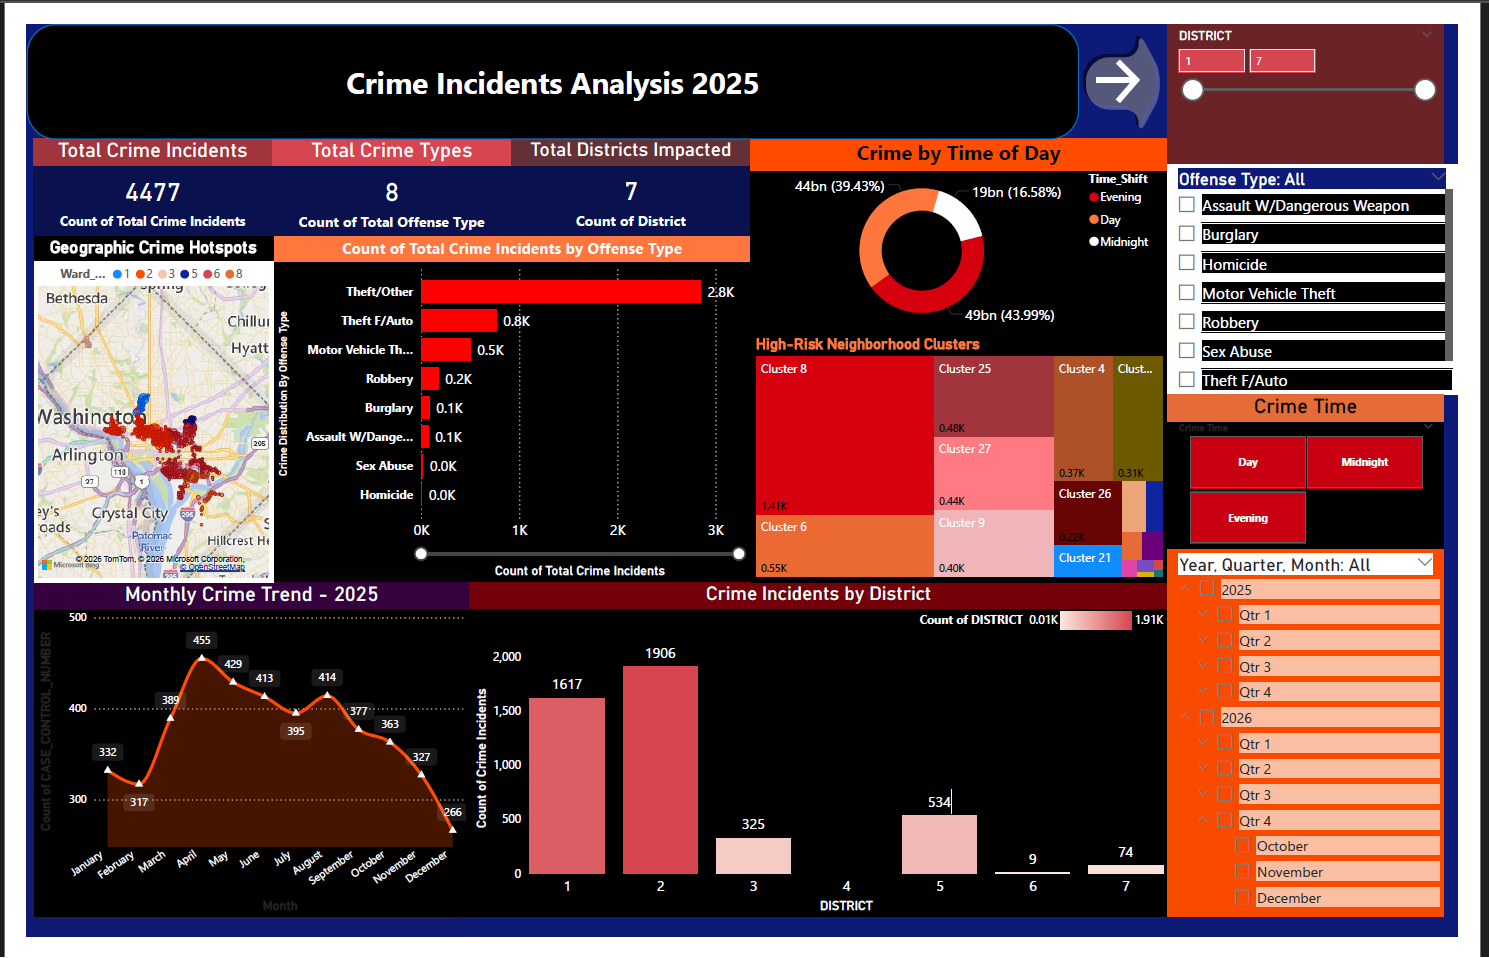

Layout of this report page (visuals, bound fields, positions):
{"tool":"powerbi","page":{"name":"Crime_Incidents2025_Dashboard","canvas":[1616,1030],"ordinal":0},"visuals":[{"type":"card","title":"Total Crime Incidents","fields":{"Values":["CountNonNull(Crime_Incidents_in_20251.CASE_CONTROL_NUMBER)"]},"box":[6.8,129.1,270,112],"z":0},{"type":"card","title":"Total Crime Types","fields":{"Values":["Count(Crime_Incidents_in_20251.OFFENSE_TYPE)"]},"box":[276.8,129.1,270,112],"z":1000},{"type":"card","title":"Total Districts Impacted","fields":{"Values":["Count(Crime_Incidents_in_20251.DISTRICT)"]},"box":[546.8,129.1,270,112],"z":2000},{"type":"clusteredBarChart","fields":{"Category":["Crime_Incidents_in_20251.OFFENSE_TYPE"],"Y":["CountNonNull(Crime_Incidents_in_20251.CASE_CONTROL_NUMBER)"]},"box":[277.5,240,540,390],"z":3000},{"type":"lineChart","title":"Monthly Crime Trend - 2025","fields":{"Category":["Crime_Incidents_in_20251.REPORT_DATE.Variation.Date Hierarchy.Month"],"Y":["CountNonNull(Crime_Incidents_in_20251.CASE_CONTROL_NUMBER)"]},"box":[7.5,630,492.5,377.5],"z":4000},{"type":"donutChart","title":"Crime by Time of Day","fields":{"Category":["Crime_Incidents_in_20251.TIME_SHIFT"],"Y":["Sum(Crime_Incidents_in_20251.CASE_CONTROL_NUMBER)"]},"box":[816.8,129.1,470,222],"z":5000},{"type":"clusteredColumnChart","title":"Crime Incidents by District","fields":{"Category":["Crime_Incidents_in_20251.DISTRICT"],"Y":["CountNonNull(Crime_Incidents_in_20251.CASE_CONTROL_NUMBER)"]},"box":[500,630,787.5,377.5],"z":6000},{"type":"map","title":"Geographic Crime Hotspots","fields":{"Y":["Crime_Incidents_in_20251.LATITUDE"],"X":["Crime_Incidents_in_20251.LONGITUDE"],"Size":["Sum(Crime_Incidents_in_20251.CASE_CONTROL_NUMBER)"],"Series":["Crime_Incidents_in_20251.WARD_NUMBER"]},"box":[7.5,240,270,390],"z":7000},{"type":"treemap","title":"High-Risk Neighborhood Clusters","fields":{"Group":["Crime_Incidents_in_20251.NEIGHBORHOOD_CLUSTER"],"Values":["CountNonNull(Crime_Incidents_in_20251.CASE_CONTROL_NUMBER)"]},"box":[817.5,350,470,280],"z":8000},{"type":"shape","box":[0,0,1188.2,130.2],"z":9000},{"type":"slicer","fields":{"Values":["Crime_Incidents_in_20251.DISTRICT"]},"box":[1287.5,0,312.5,157.5],"z":10000},{"type":"slicer","fields":{"Values":["Crime_Incidents_in_20251.OFFENSE_TYPE"]},"box":[1287.5,157.5,327.5,260],"z":11000},{"type":"slicer","title":"Crime Time","fields":{"Values":["Crime_Incidents_in_20251.TIME_SHIFT"]},"box":[1287.5,417.5,312.5,175],"z":12000},{"type":"slicer","fields":{"Values":["Crime_Incidents_in_20251.REPORT_DATE.Variation.Date Hierarchy.Year","Crime_Incidents_in_20251.REPORT_DATE.Variation.Date Hierarchy.Quarter","Crime_Incidents_in_20251.REPORT_DATE.Variation.Date Hierarchy.Month"]},"box":[1287.5,592.5,312.5,415],"z":13000},{"type":"actionButton","box":[1188.2,0,100.8,128.1],"z":14000}]}

Visuals, with their boxes in screenshot pixels (x1, y1, x2, y2), scaled from the page's 1616x1030 canvas onto the 1489x958 screenshot:
"Total Crime Incidents" card: BBox(6, 120, 255, 224)
"Total Crime Types" card: BBox(255, 120, 504, 224)
"Total Districts Impacted" card: BBox(504, 120, 753, 224)
clusteredBarChart - Crime_Incidents_in_20251.OFFENSE_TYPE x CountNonNull(Crime_Incidents_in_20251.CASE_CONTROL_NUMBER): BBox(256, 223, 753, 586)
"Monthly Crime Trend - 2025" lineChart: BBox(7, 586, 461, 937)
"Crime by Time of Day" donutChart: BBox(753, 120, 1186, 327)
"Crime Incidents by District" clusteredColumnChart: BBox(461, 586, 1186, 937)
"Geographic Crime Hotspots" map: BBox(7, 223, 256, 586)
"High-Risk Neighborhood Clusters" treemap: BBox(753, 326, 1186, 586)
shape: BBox(0, 0, 1095, 121)
slicer - Crime_Incidents_in_20251.DISTRICT: BBox(1186, 0, 1474, 146)
slicer - Crime_Incidents_in_20251.OFFENSE_TYPE: BBox(1186, 146, 1488, 388)
"Crime Time" slicer: BBox(1186, 388, 1474, 551)
slicer - Crime_Incidents_in_20251.REPORT_DATE.Variation.Date Hierarchy.Year x Crime_Incidents_in_20251.REPORT_DATE.Variation.Date Hierarchy.Quarter: BBox(1186, 551, 1474, 937)
actionButton: BBox(1095, 0, 1188, 119)
